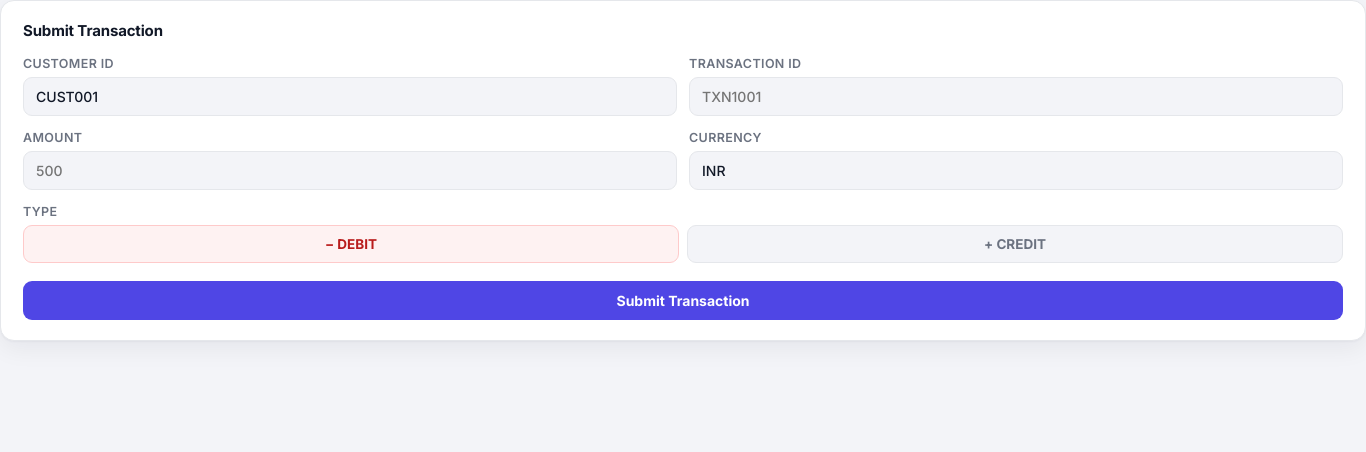
Test case: TransactionForm › displays the failure reason for a FAILED transaction
Step 1. Type "TXN2" into the field with placeholder "TXN1001" → (1016, 96), box [689, 77, 1343, 116]
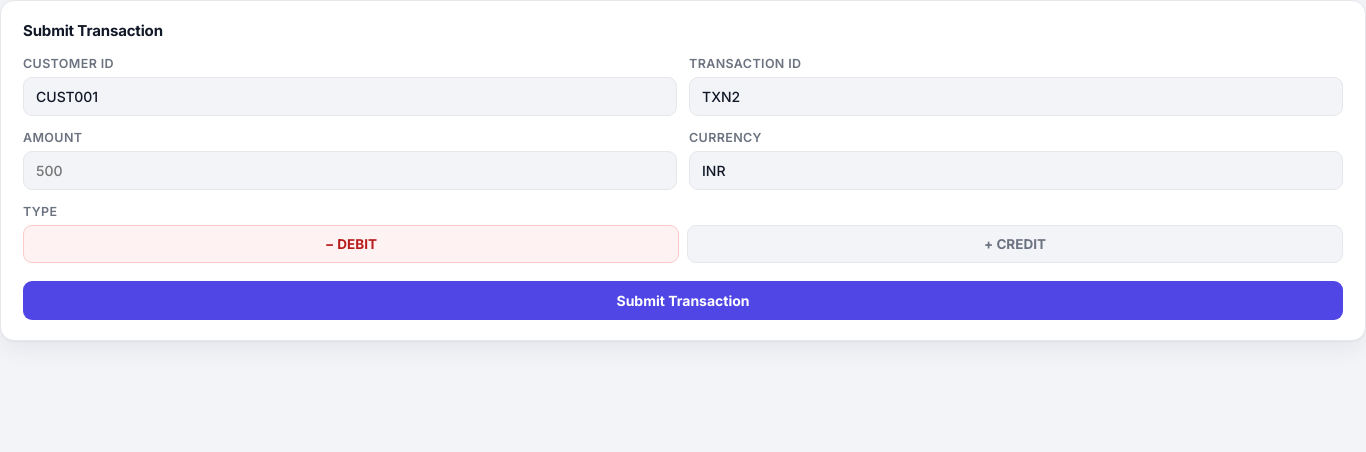
Step 2. Type "999999" into the number field with placeholder "500" → (350, 170), box [23, 151, 677, 190]
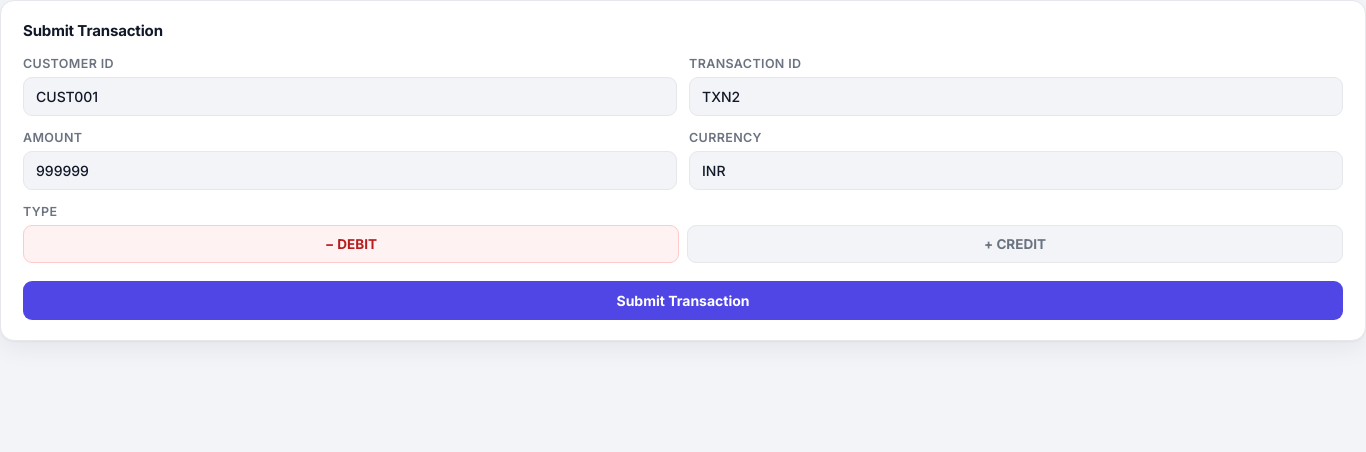
Step 3. Click the button "Submit Transaction" → click(683, 300), box [23, 281, 1343, 320]
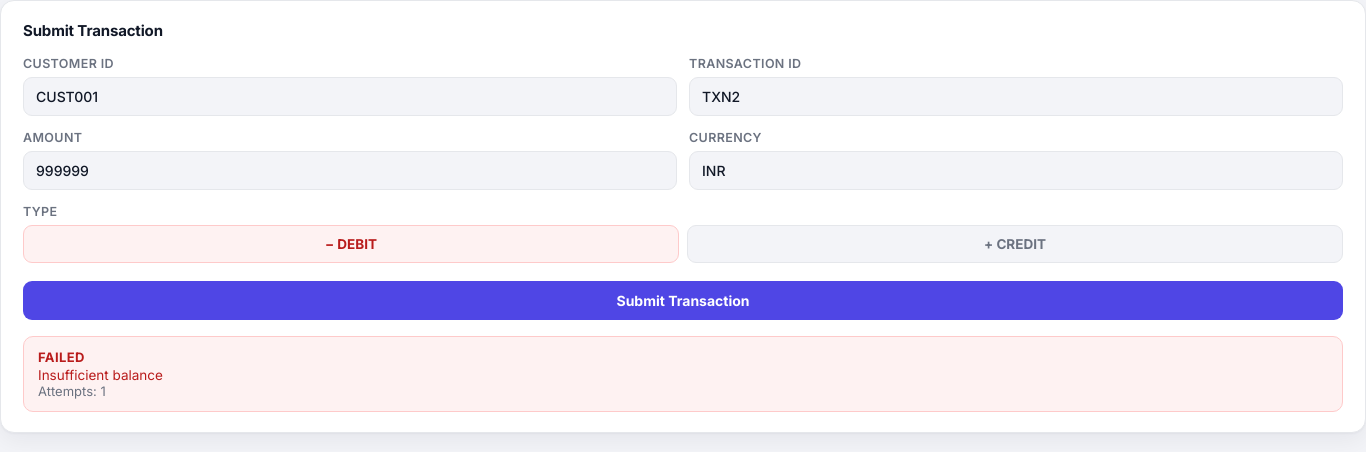
Check: the element with test id "transaction-result" shows "FAILED", box [38, 349, 85, 365]
Check: the element with test id "transaction-result" shows "Insufficient balance", box [38, 367, 163, 383]
